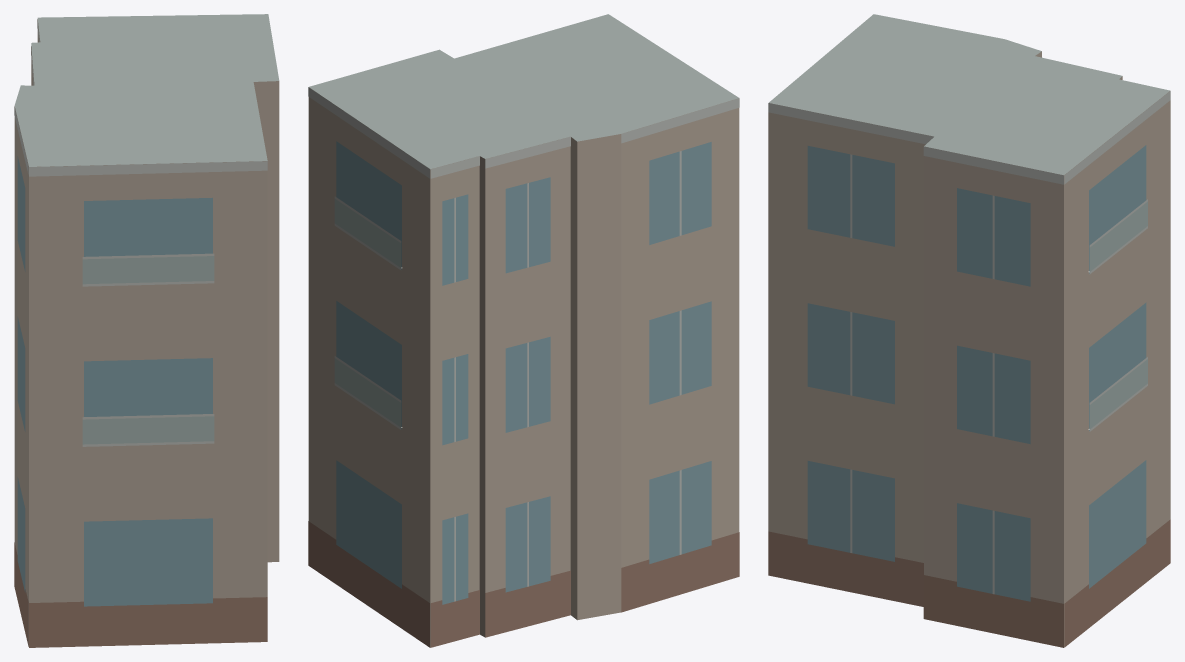
The model's file is survey-upis-33039746.glb.
3 views of the same model, side by side, from view 1: azimuth 30°, elevation 25°; view 2: azimuth 150°, elevation 25°; view 3: azimuth 270°, elevation 25° (orthographic).
Parts seen in each view (by area): view 1: survey-upis-33039746.tmp; view 2: survey-upis-33039746.tmp; view 3: survey-upis-33039746.tmp.
Part boxes in pixels (left/top/right/bottom): survey-upis-33039746.tmp: left=14, top=14, right=279, bottom=647; survey-upis-33039746.tmp: left=308, top=14, right=739, bottom=647; survey-upis-33039746.tmp: left=768, top=14, right=1170, bottom=647.
Bounding box in the file's own units: 8.86 × 12.1 × 9.34.
